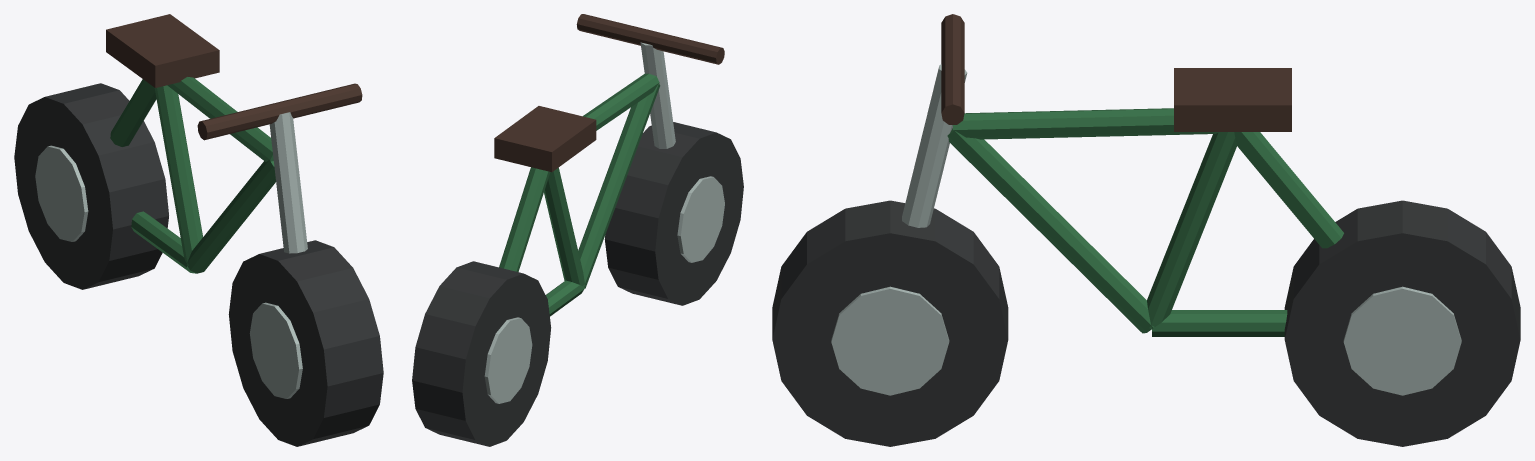
The model's file is 011_roadster_bicycle.glb.
The picture shows the model from 3 angles, left to right: view 1: azimuth 30°, elevation 25°; view 2: azimuth 150°, elevation 25°; view 3: azimuth 270°, elevation 25°; orthographic projection. The views are drawn at different scales.
Parts seen in each view (by area): view 1: Roadster bicycle; view 2: Roadster bicycle; view 3: Roadster bicycle.
Part boxes in pixels (<box>): Roadster bicycle: <box>14,14,383,446</box>; Roadster bicycle: <box>412,14,743,446</box>; Roadster bicycle: <box>772,14,1520,446</box>.
Bounding box in the file's own units: 0.58 × 1.11 × 2.03.
